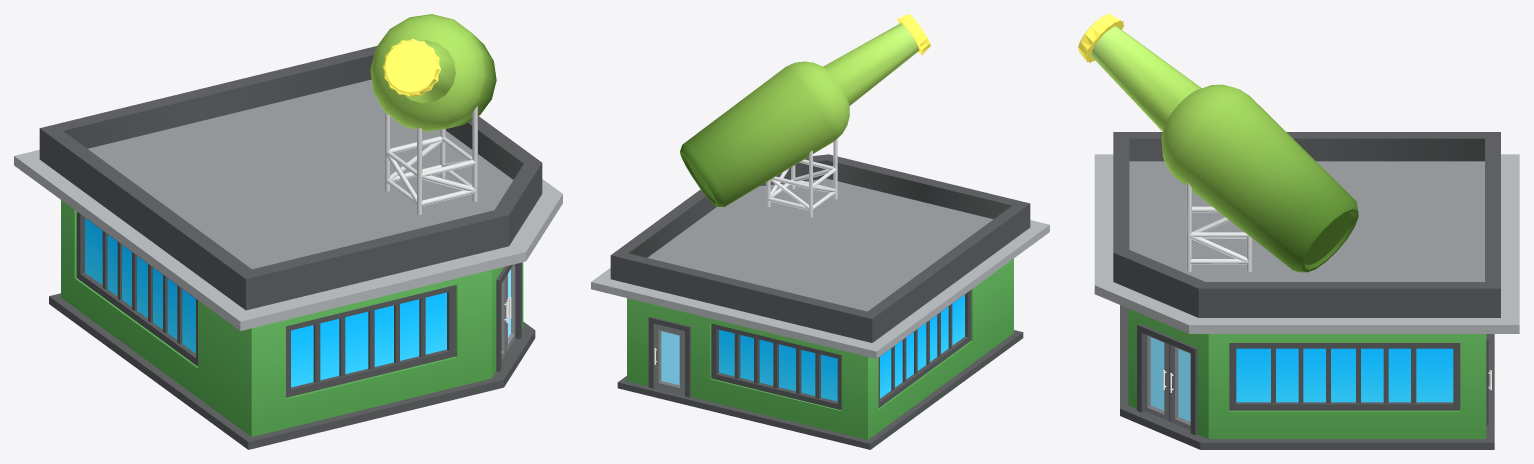
Rendered from Building_Snack_10.glb.
3 views of the same model, side by side, from view 1: azimuth 30°, elevation 25°; view 2: azimuth 150°, elevation 25°; view 3: azimuth 270°, elevation 25° (orthographic). The views are drawn at different scales.
Visible parts, largest first — view 1: Building_Snack_10; view 2: Building_Snack_10; view 3: Building_Snack_10.
Part boxes in pixels (x1=…): Building_Snack_10: x1=14, y1=14, x2=562, y2=449; Building_Snack_10: x1=591, y1=14, x2=1049, y2=449; Building_Snack_10: x1=1078, y1=14, x2=1519, y2=449.
Size of the model in its own units: 9.84 by 9.5 by 10.75.
1 material, 1 textured.
